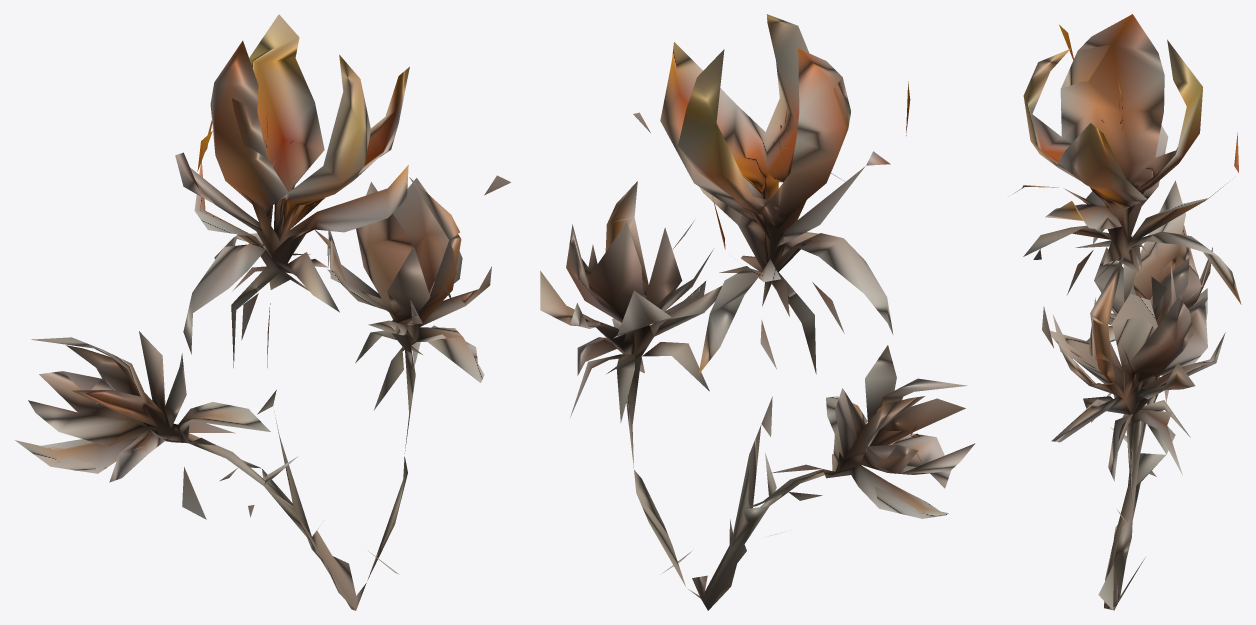
Rendered from field_flower_4.glb.
3 views of the same model, side by side, from view 1: azimuth 30°, elevation 25°; view 2: azimuth 150°, elevation 25°; view 3: azimuth 270°, elevation 25° (orthographic). The views are drawn at different scales.
Size of the model in its own units: 1.49 by 1.94 by 0.7569.
